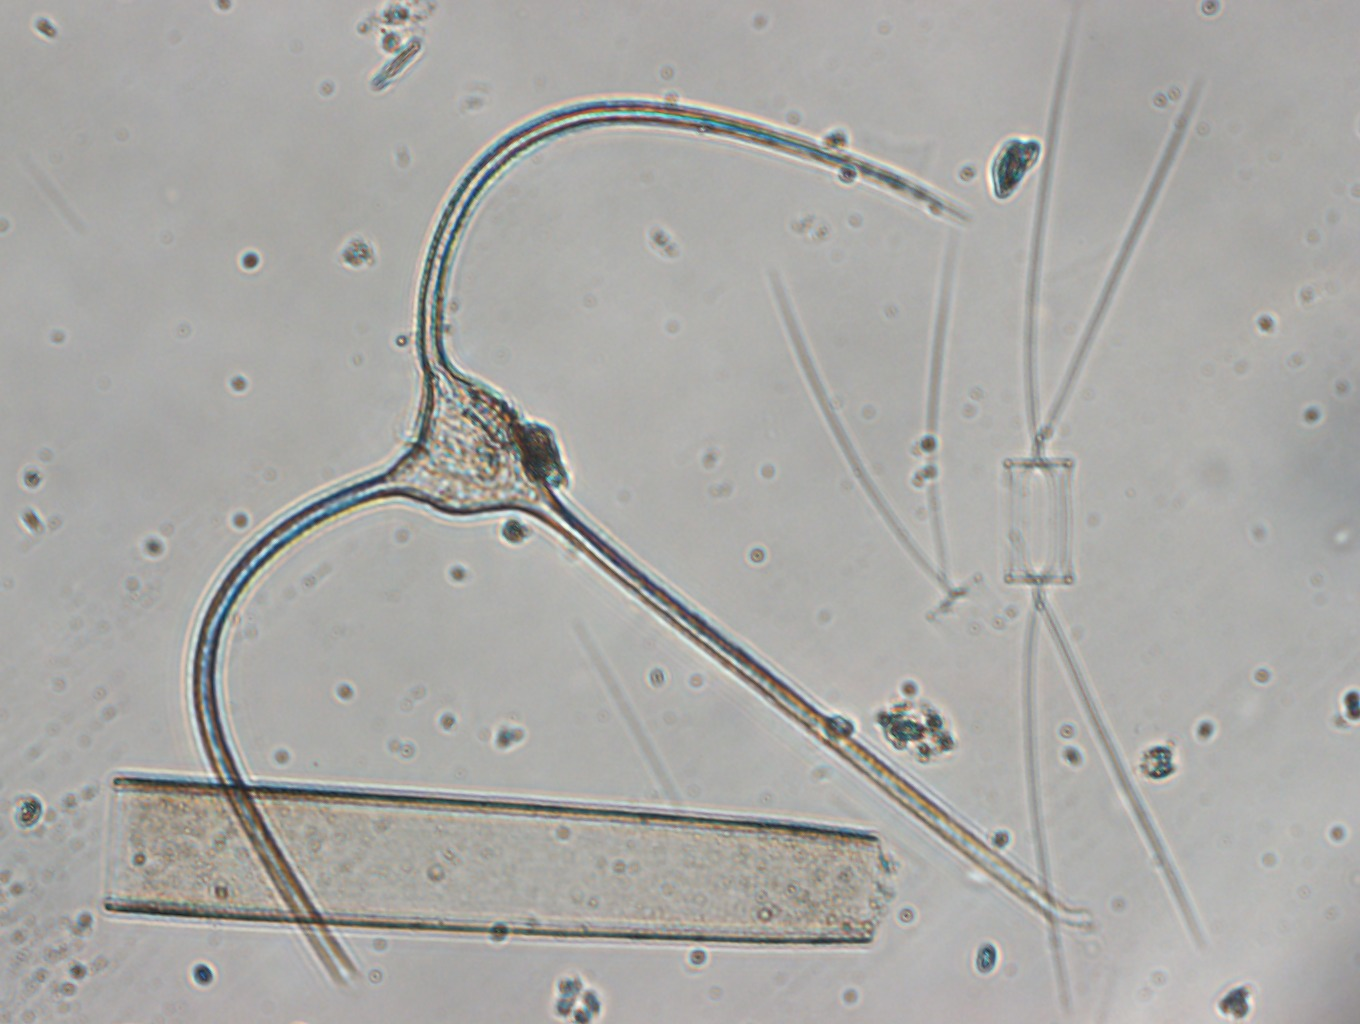ceratium trichoceros: (135, 100, 1080, 983)
chaetoceros: (1006, 10, 1219, 1002)
